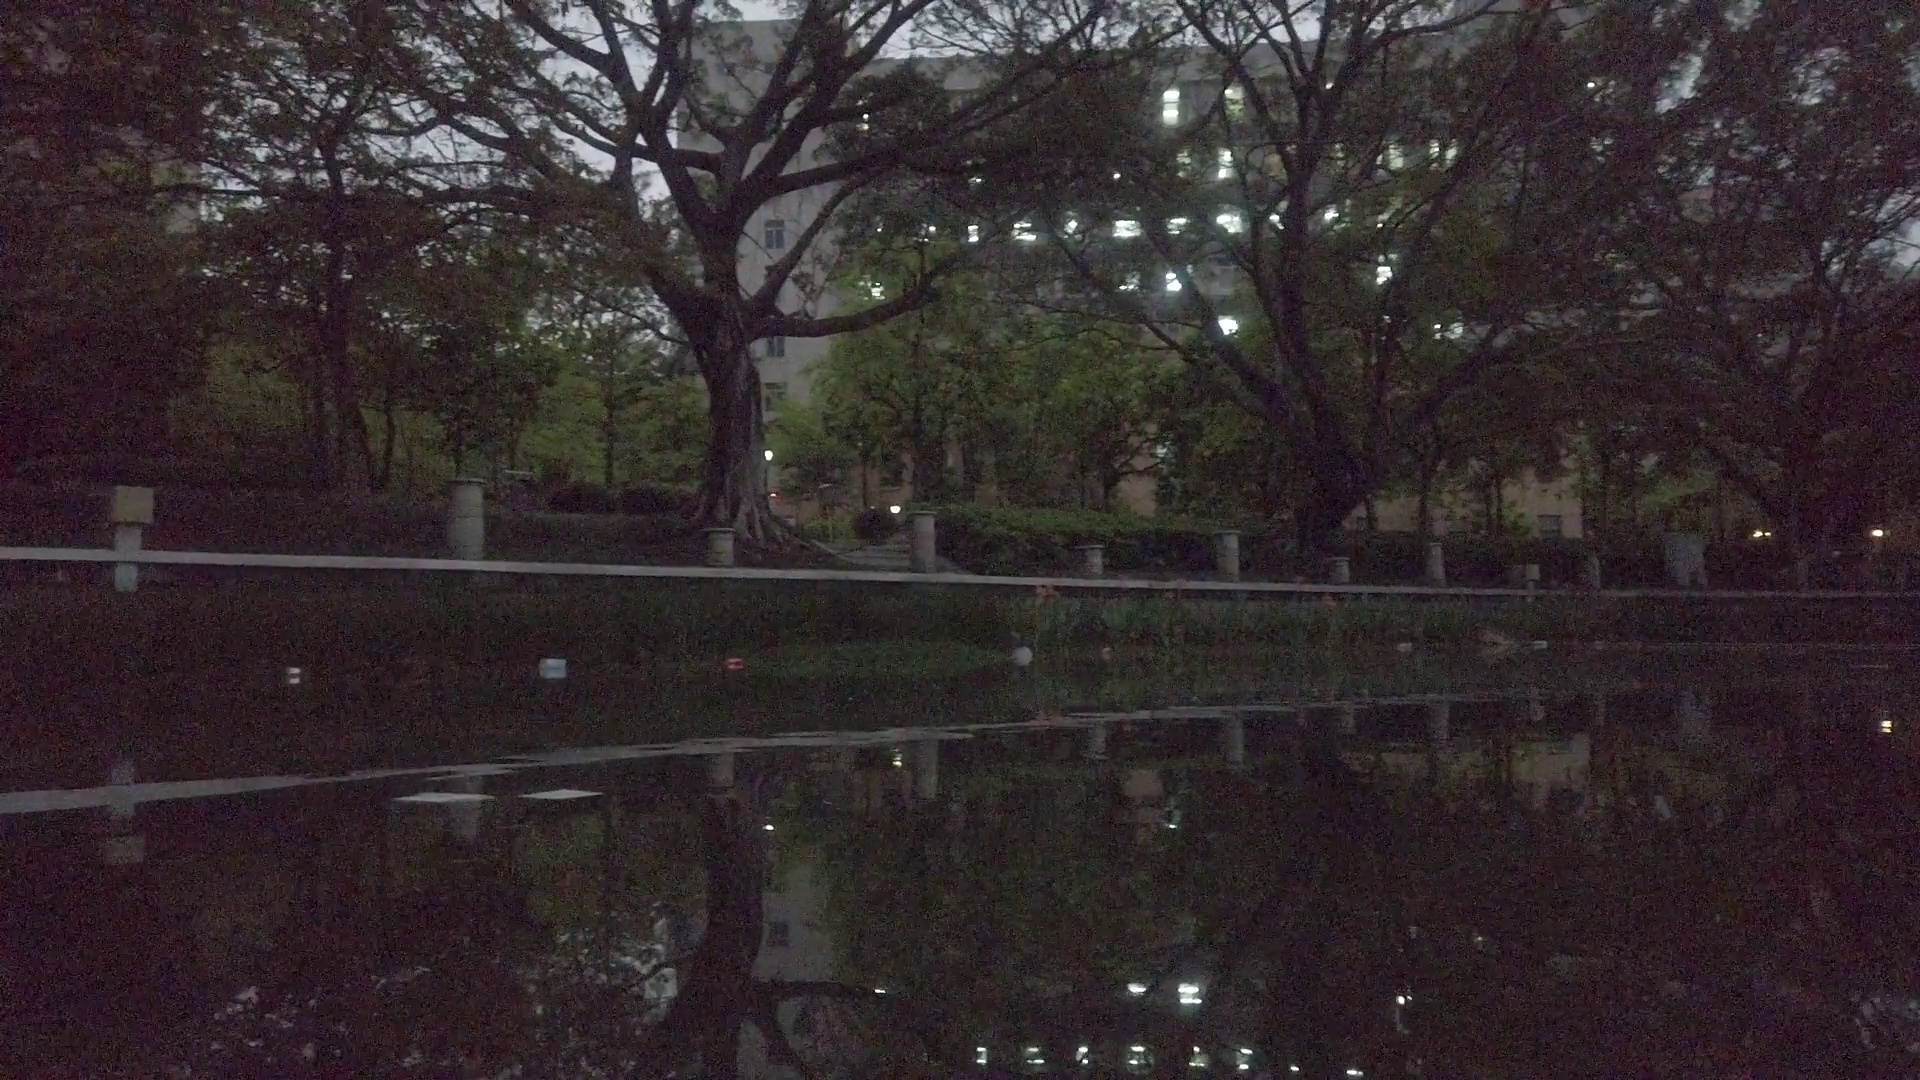bottle: (731, 654, 742, 669), (287, 669, 301, 679)
carton: (541, 655, 570, 673)
paper: (516, 779, 604, 808), (396, 793, 501, 807)
plastic: (1015, 647, 1033, 666)
